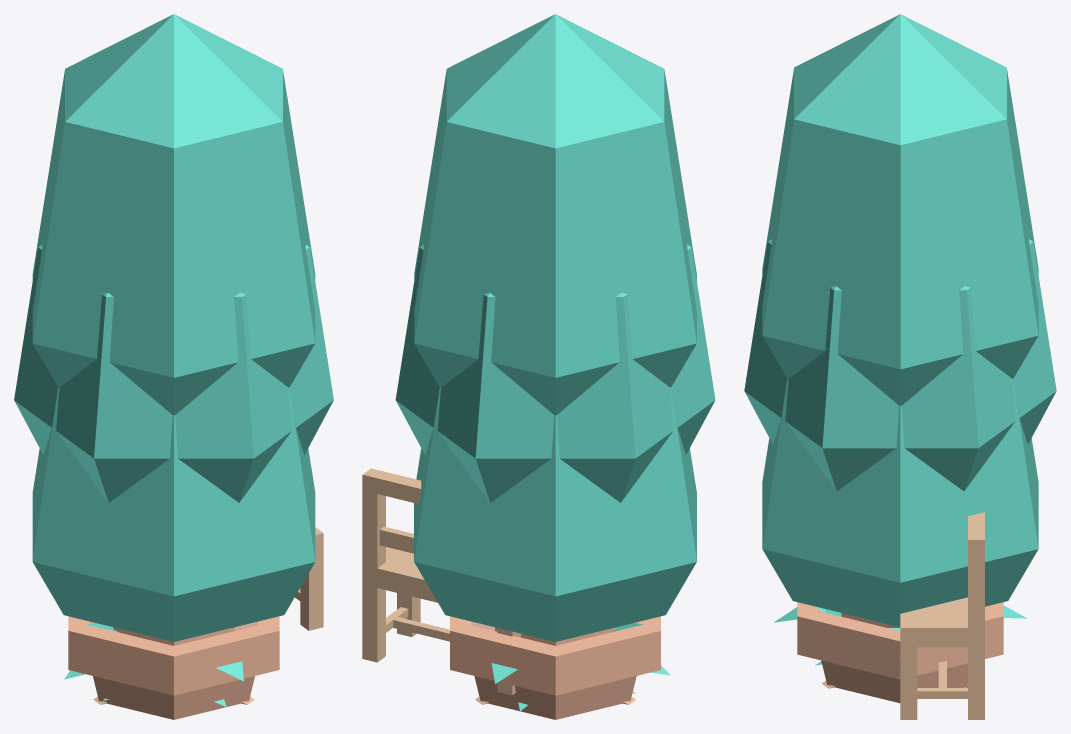
The picture shows the model from 3 angles, left to right: view 1: azimuth 30°, elevation 25°; view 2: azimuth 150°, elevation 25°; view 3: azimuth 270°, elevation 25°; orthographic projection. The views are drawn at different scales.
Parts seen in each view (by area): view 1: tree_default, tree_fat, tree_oak, pot_large, bench(Clone), plant_bushDetailed, pot_small; view 2: tree_default, tree_fat, tree_oak, pot_large, bench(Clone); view 3: tree_default, tree_fat, tree_oak, pot_large, bench(Clone).
Part boxes in pixels (bbox=[...]): tree_default: bbox=[32, 14, 315, 415]; tree_fat: bbox=[32, 387, 315, 641]; tree_oak: bbox=[14, 244, 333, 704]; pot_large: bbox=[68, 616, 279, 719]; bench(Clone): bbox=[295, 527, 323, 630]; plant_bushDetailed: bbox=[64, 623, 243, 706]; pot_small: bbox=[113, 627, 234, 645]; tree_default: bbox=[414, 14, 696, 415]; tree_fat: bbox=[414, 387, 696, 641]; tree_oak: bbox=[395, 244, 715, 704]; pot_large: bbox=[450, 616, 660, 719]; bench(Clone): bbox=[362, 468, 520, 695]; tree_default: bbox=[762, 14, 1038, 405]; tree_fat: bbox=[762, 378, 1038, 626]; tree_oak: bbox=[744, 239, 1056, 688]; pot_large: bbox=[797, 602, 1003, 703]; bench(Clone): bbox=[900, 512, 984, 719].
Bounding box in the file's own units: 0.7775 × 1.71 × 0.7397.
